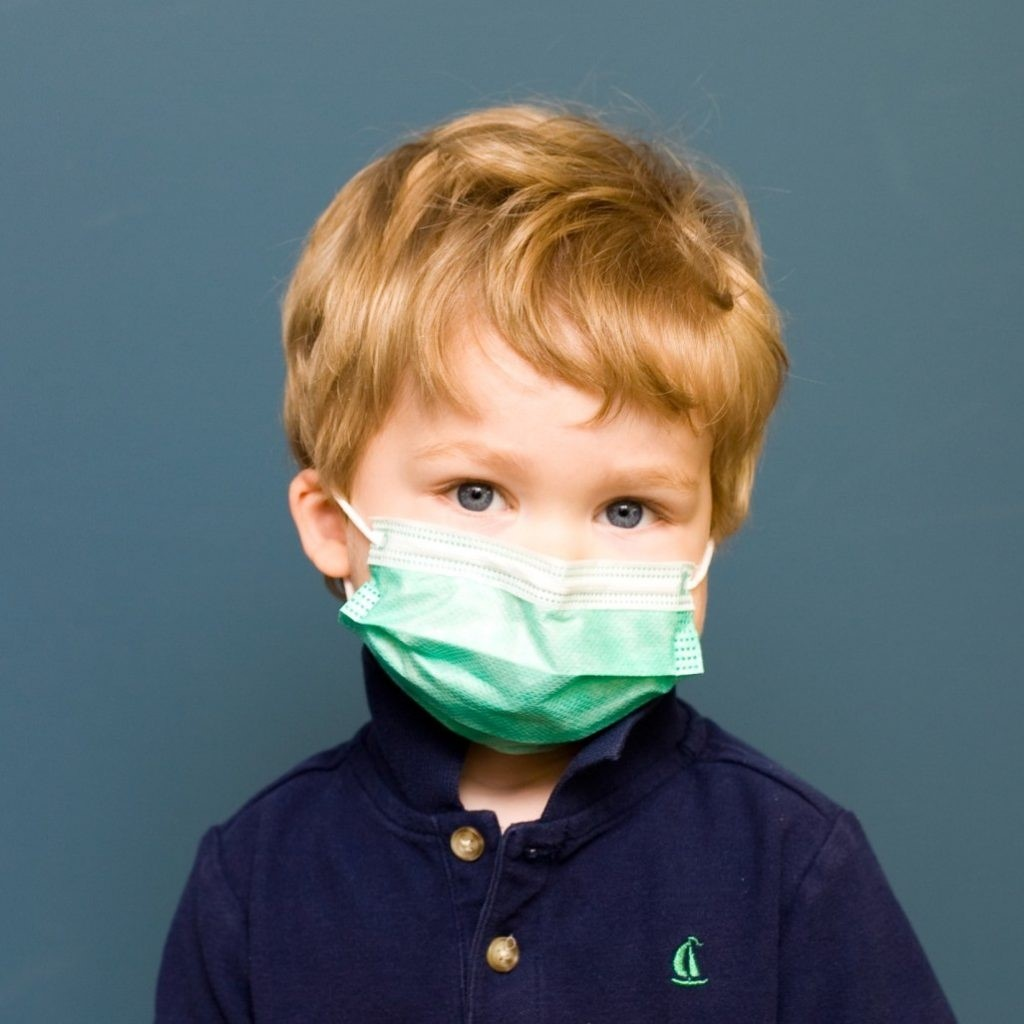face_with_mask: (276, 208, 738, 791)
